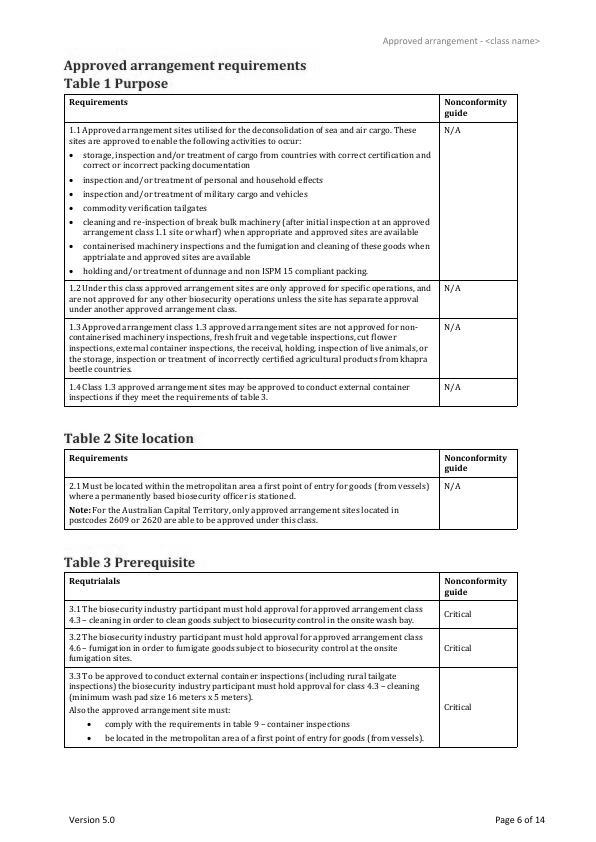table: (60, 91, 522, 414), (60, 569, 523, 754), (61, 447, 524, 536)
text: (61, 58, 311, 90), (60, 430, 198, 447), (61, 554, 200, 570)
